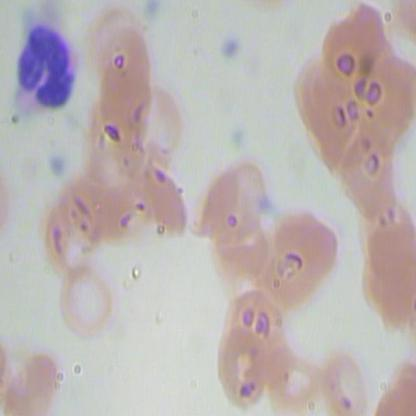Platelets: (215, 30, 246, 65)
RBC: (194, 156, 270, 245), (265, 207, 341, 296), (324, 1, 393, 88), (294, 54, 363, 141), (347, 50, 415, 138), (331, 123, 398, 212), (99, 20, 153, 112), (57, 260, 114, 343), (214, 328, 272, 409), (359, 198, 415, 279), (319, 345, 380, 415), (264, 345, 324, 415), (4, 345, 64, 415)
WBC: (4, 9, 85, 133)
